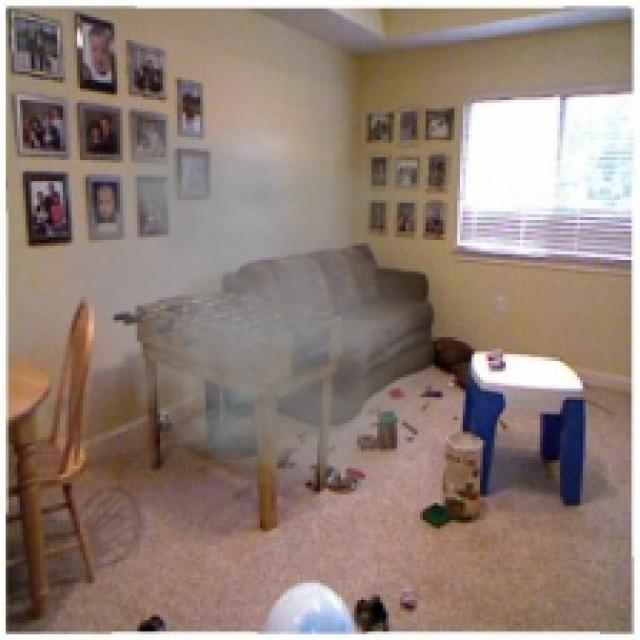Smoke: (46, 117, 434, 489)
